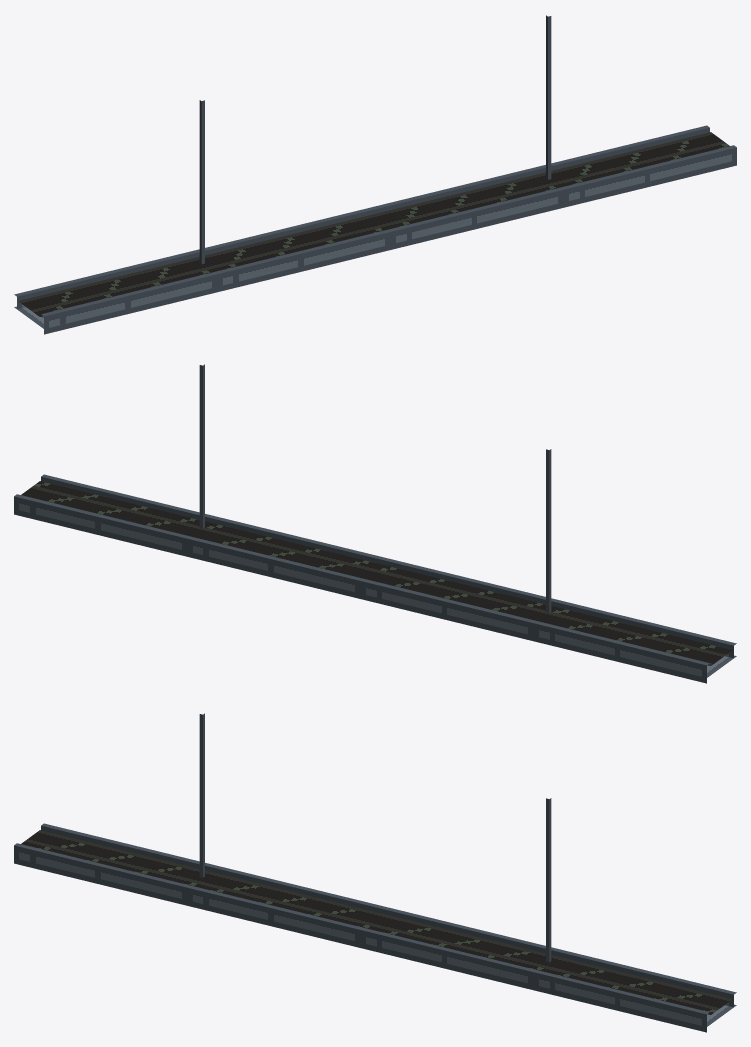
Rendered from cable_tray.glb.
The picture shows the model from 3 angles, top to bottom: view 1: azimuth 30°, elevation 25°; view 2: azimuth 150°, elevation 25°; view 3: azimuth 330°, elevation 25°; orthographic projection.
Parts seen in each view (by area): view 1: cable_tray mesh; view 2: cable_tray mesh; view 3: cable_tray mesh.
Boxes of the visible parts, box(x1,y1,x2,y2) form: cable_tray mesh: box(14, 15, 736, 334); cable_tray mesh: box(14, 364, 736, 683); cable_tray mesh: box(14, 713, 736, 1032).
Bounding box in the file's own units: 4 × 1 × 0.3.
2 materials, 2 textured.
